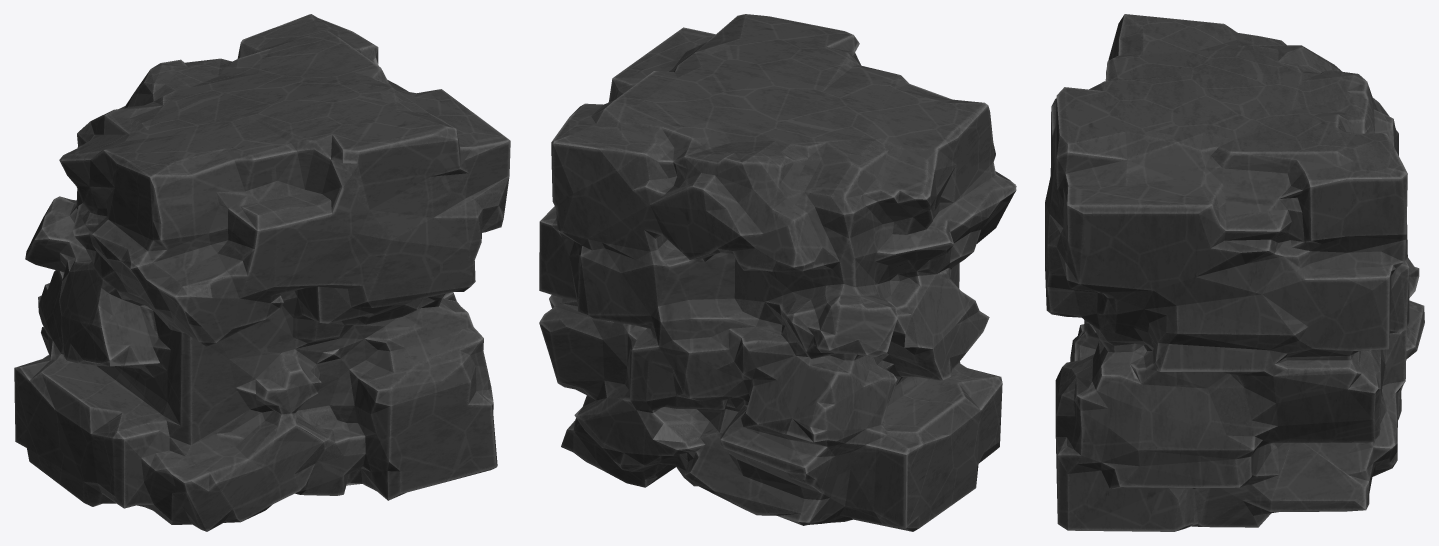
Rendered from CLIFF 1.fbx.
3 views of the same model, side by side, from view 1: azimuth 30°, elevation 25°; view 2: azimuth 150°, elevation 25°; view 3: azimuth 270°, elevation 25° (orthographic). The views are drawn at different scales.
Visible parts, largest first — view 1: CLIFF 1; view 2: CLIFF 1; view 3: CLIFF 1.
Part boxes in pixels (bbox=[...]): CLIFF 1: bbox=[14, 14, 510, 531]; CLIFF 1: bbox=[539, 14, 1016, 531]; CLIFF 1: bbox=[1045, 14, 1424, 531].
Size of the model in its own units: 26.88 by 26.09 by 23.54.
